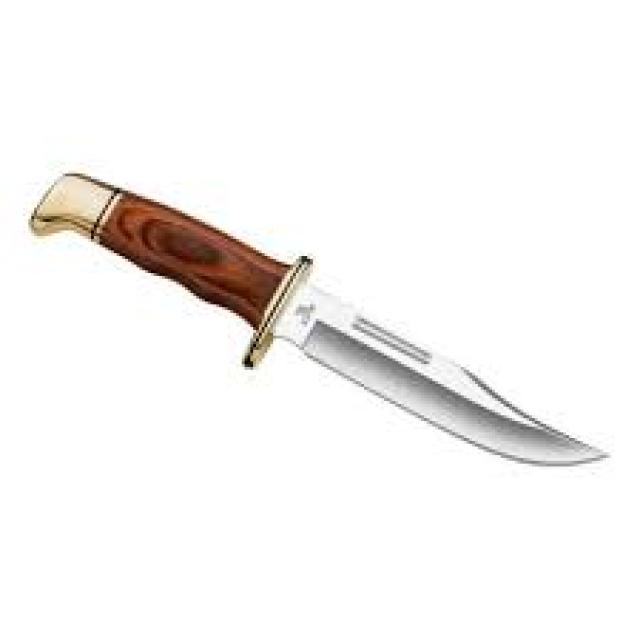knives: (22, 162, 612, 475)
